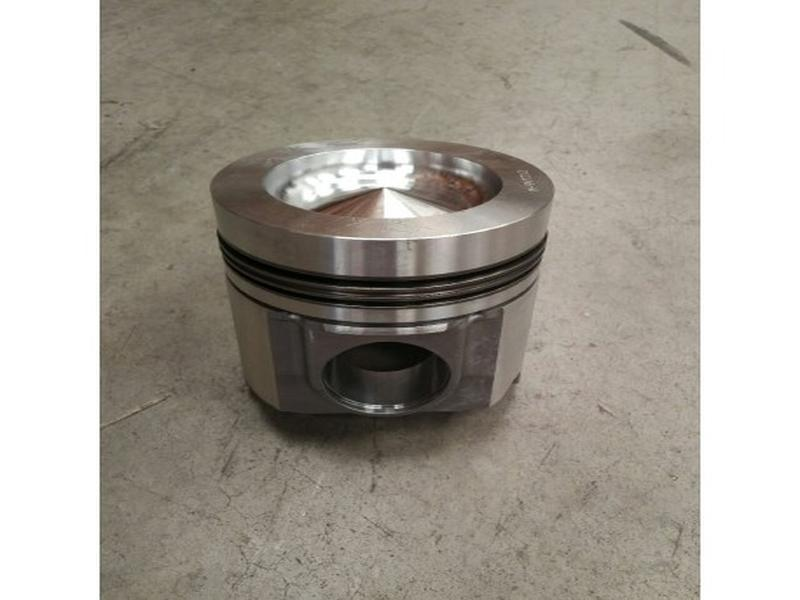piston: (209, 130, 561, 437)
